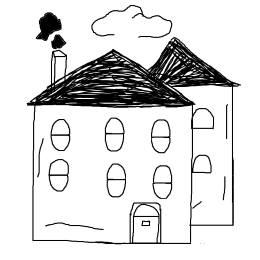closed_window: (102, 111, 131, 151), (46, 117, 81, 150), (148, 162, 178, 200), (46, 154, 72, 196), (102, 162, 130, 199), (148, 115, 174, 154)
clouds: (81, 1, 186, 40)
door: (124, 197, 168, 249)
open_window: (189, 104, 220, 133), (190, 150, 216, 180)
shaded_roof: (24, 48, 197, 111), (147, 35, 245, 93)
smoking_chimney: (31, 7, 72, 83)
wall: (25, 103, 201, 249)
